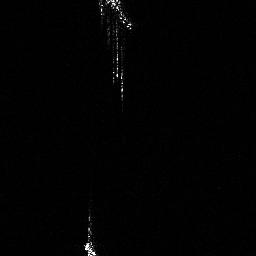ship: (95, 1, 137, 101)
